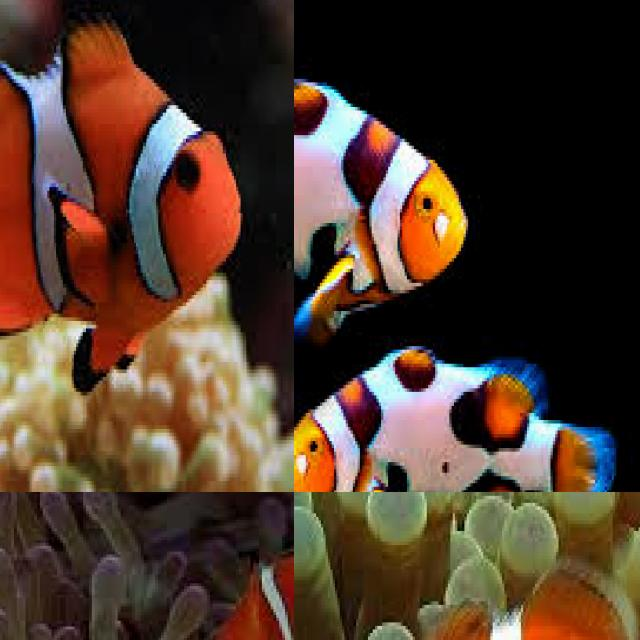Amphiprion-percula: (0, 5, 259, 415), (294, 85, 540, 335), (294, 339, 640, 492), (332, 547, 640, 640), (123, 493, 294, 640)
